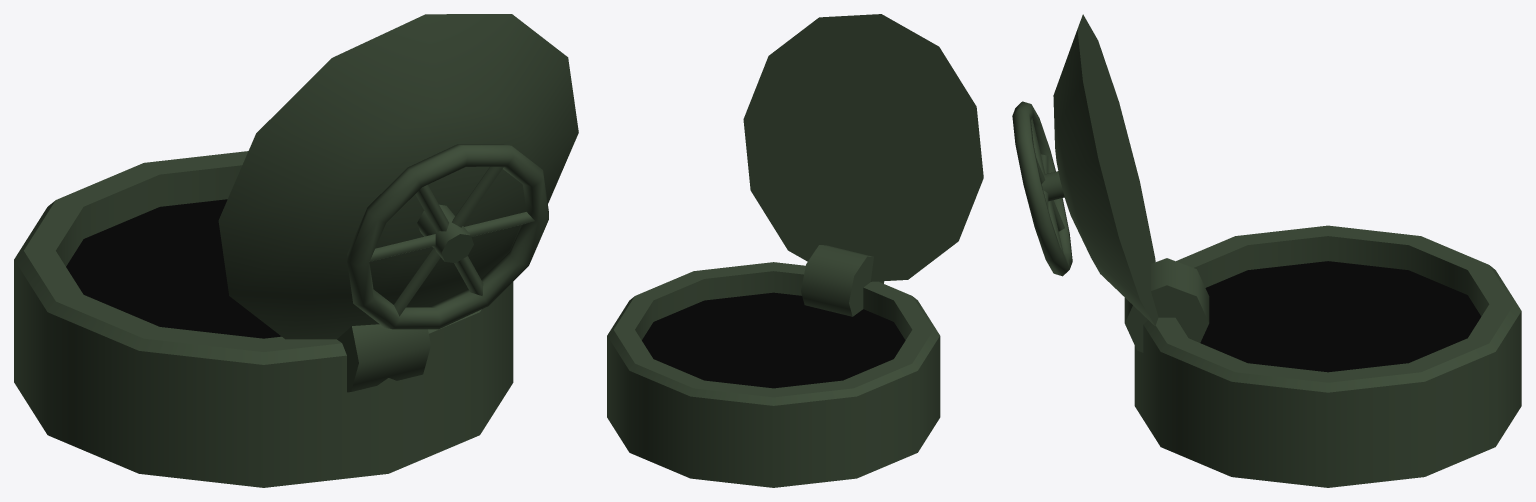
The model's file is tank_hatch.FBX.
3 renders of one model, left to right at view 1: azimuth 30°, elevation 25°; view 2: azimuth 150°, elevation 25°; view 3: azimuth 270°, elevation 25°, orthographic. The views are drawn at different scales.
Parts seen in each view (by area): view 1: hatch003; view 2: hatch003; view 3: hatch003.
Part boxes in pixels (x1,y1,x2,y2): hatch003: (14, 14, 578, 487); hatch003: (607, 14, 983, 487); hatch003: (1012, 14, 1521, 487).
Size of the model in its own units: 6.35 by 8.36 by 6.83.
